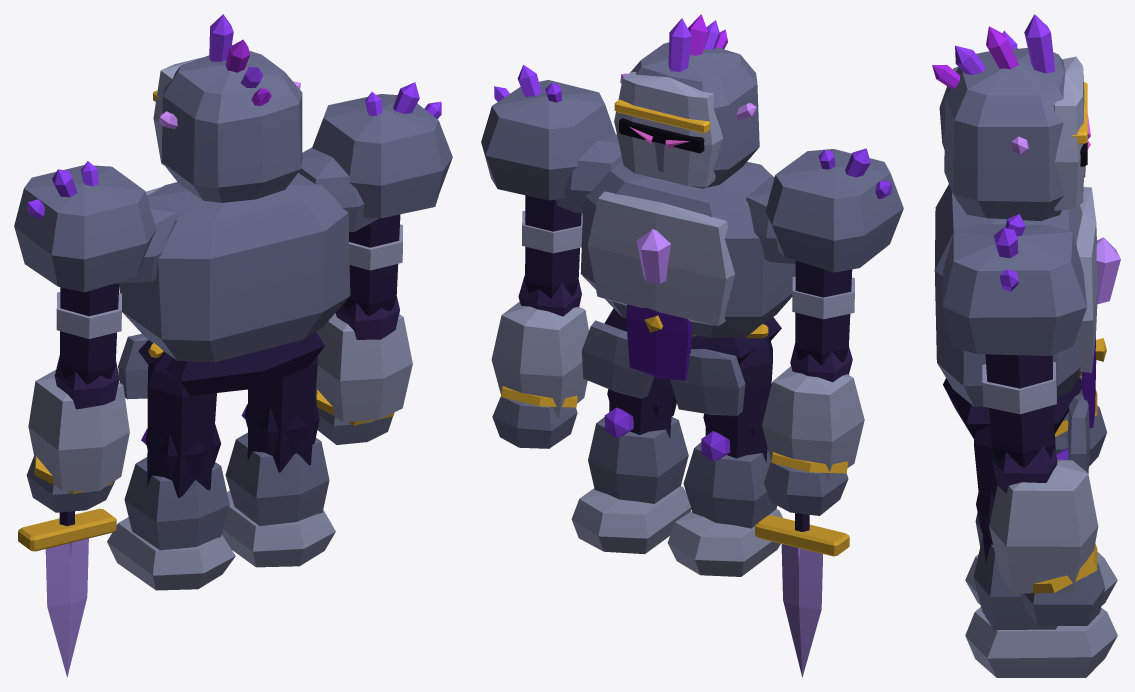
Rendered from keeper_crystal_knight.fbx.
3 views of the same model, side by side, from view 1: azimuth 30°, elevation 25°; view 2: azimuth 150°, elevation 25°; view 3: azimuth 270°, elevation 25° (orthographic). The views are drawn at different scales.
Parts seen in each view (by area): view 1: Body, Head, RightArm, RightLeg, LeftArm, LeftLeg, RightForearm, LeftForearm, Sword; view 2: Body, Head, RightArm, LeftArm, RightLeg, LeftLeg, RightForearm, LeftForearm, Sword, Body_Glow; view 3: LeftArm, Head, LeftForearm, Body, LeftLeg, Body_Glow, RightForearm, RightLeg, RightArm.
Boxes of the visible parts, box(x1,y1,x2,y2) form: Body: box(115, 147, 378, 399); Head: box(153, 14, 302, 202); RightArm: box(14, 161, 156, 384); RightLeg: box(107, 351, 235, 590); LeftArm: box(312, 82, 452, 315); LeftLeg: box(221, 356, 335, 567); RightForearm: box(26, 355, 129, 512); LeftForearm: box(315, 296, 412, 444); Sword: box(18, 508, 116, 677); Body: box(556, 134, 795, 415); Head: box(614, 14, 759, 188); RightArm: box(765, 148, 903, 365); LeftArm: box(481, 65, 615, 298); RightLeg: box(667, 337, 782, 576); LeftLeg: box(571, 377, 691, 554); RightForearm: box(762, 343, 864, 515); LeftForearm: box(491, 275, 588, 448); Sword: box(755, 513, 849, 677); Body_Glow: box(637, 229, 670, 283); LeftArm: box(942, 214, 1086, 467); Head: box(932, 14, 1087, 221); LeftForearm: box(989, 446, 1104, 625); Body: box(934, 184, 1106, 473); LeftLeg: box(965, 426, 1117, 677); Body_Glow: box(1096, 237, 1120, 304); RightForearm: box(1055, 389, 1107, 466); RightLeg: box(965, 434, 1117, 605); RightArm: box(939, 30, 1017, 149).
Size of the model in its own units: 2679 by 3966 by 936.
5 materials, 1 textured.
